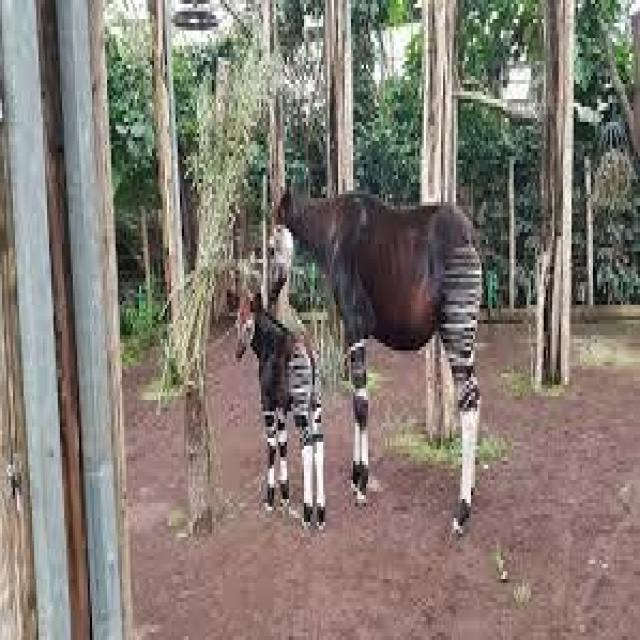Okapi: (261, 156, 565, 549), (208, 272, 332, 505)
